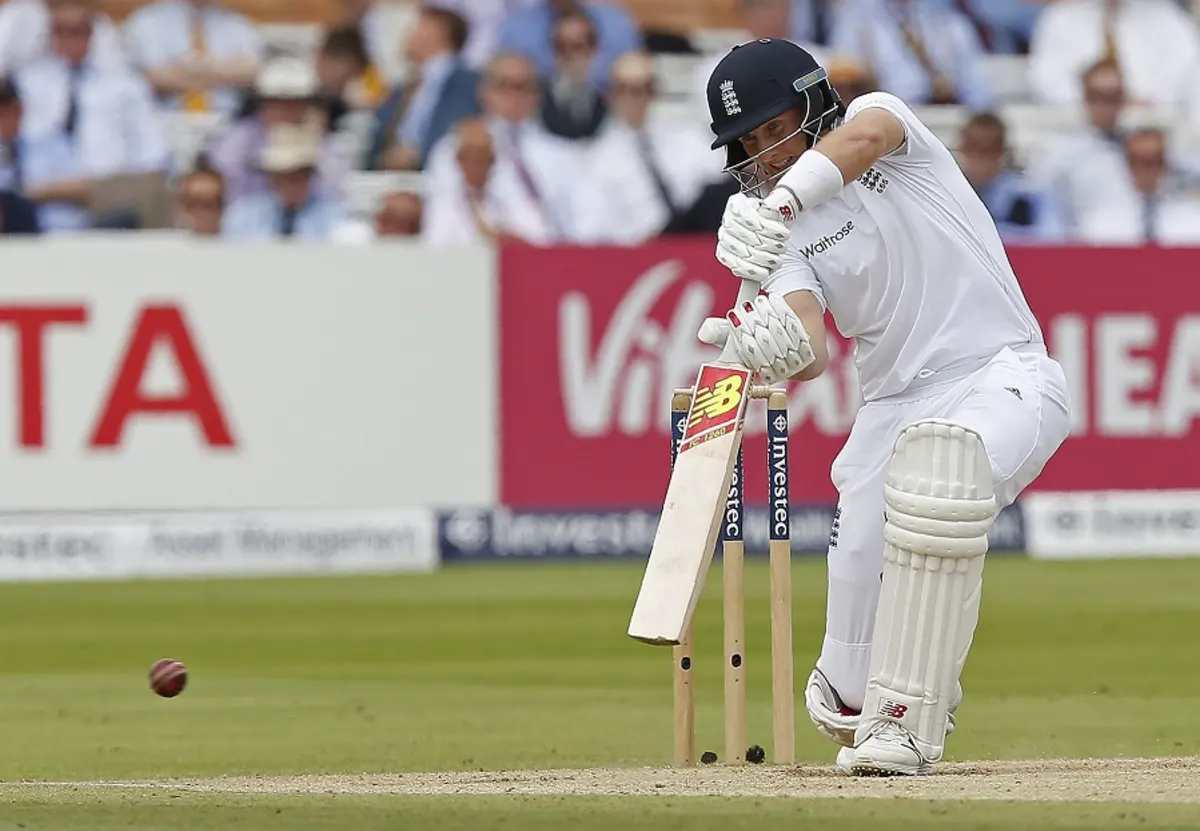Defence: (103, 0, 1104, 831)
